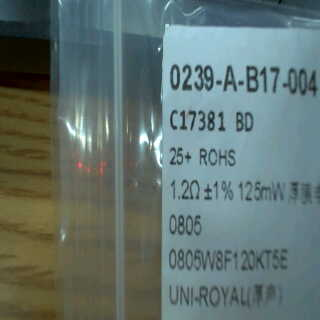1.2R: (163, 175, 204, 237)
